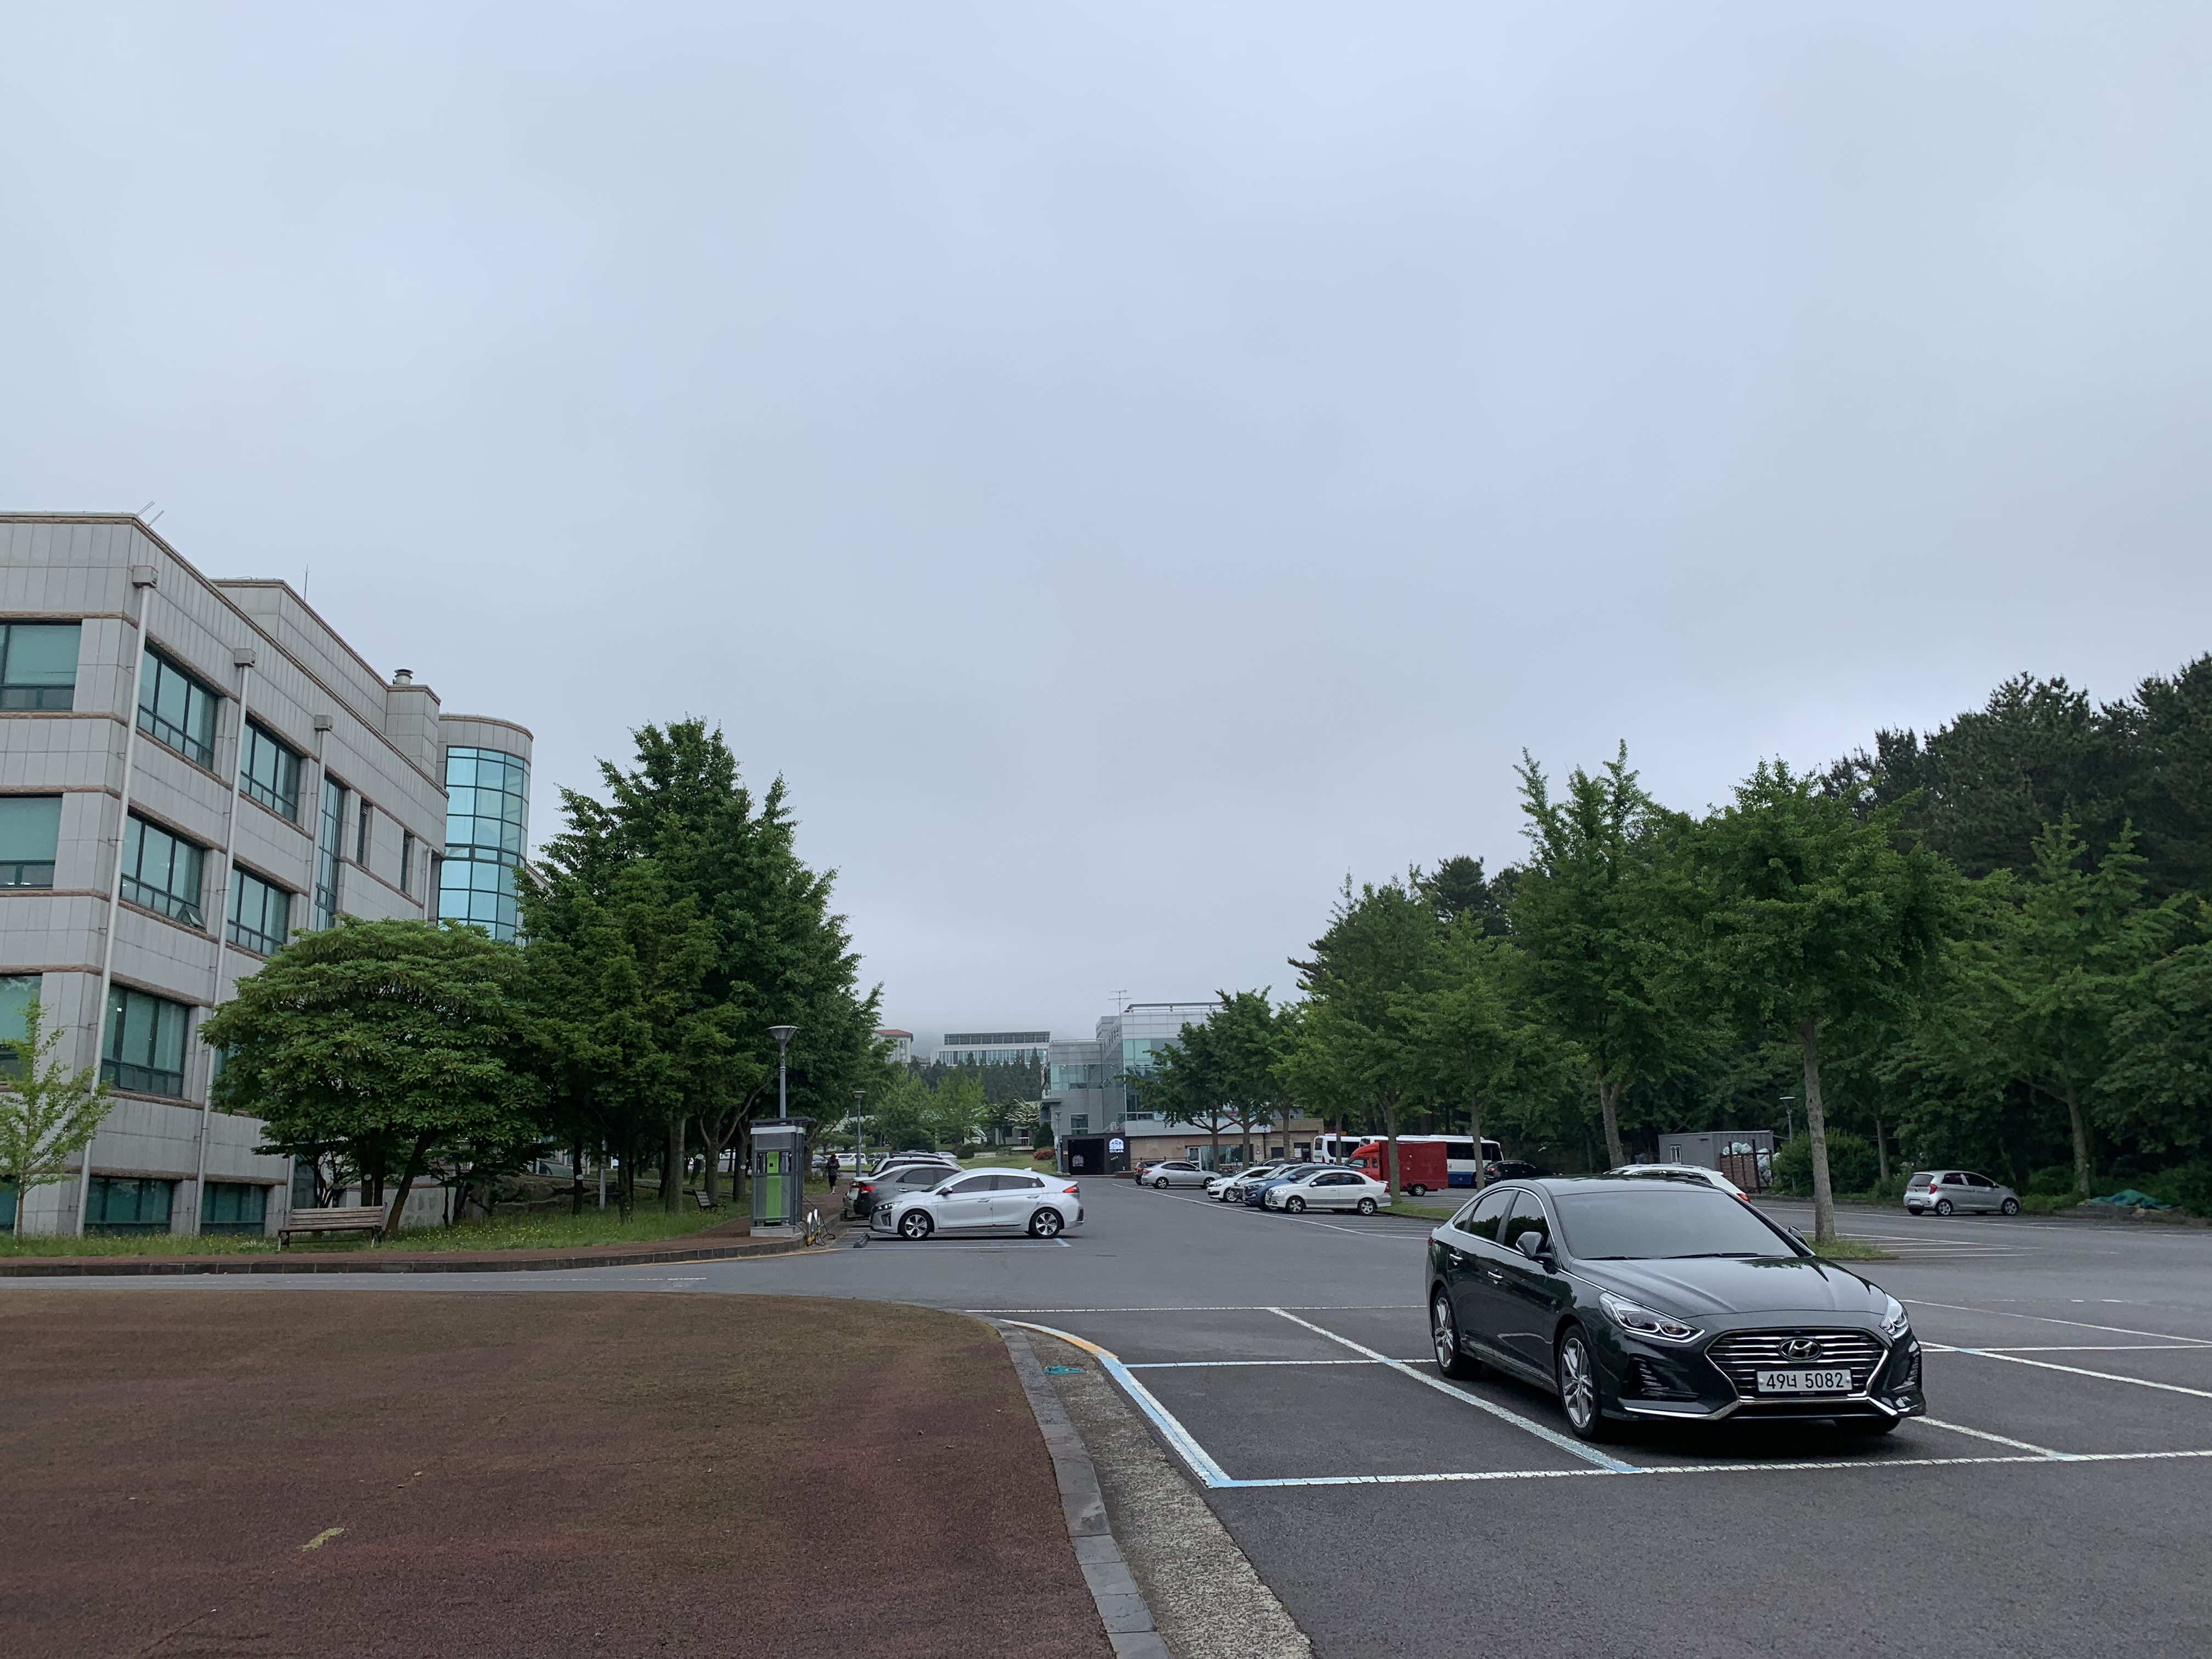Global House: (1029, 969, 1338, 1182)
Second Library: (12, 500, 538, 1248)
